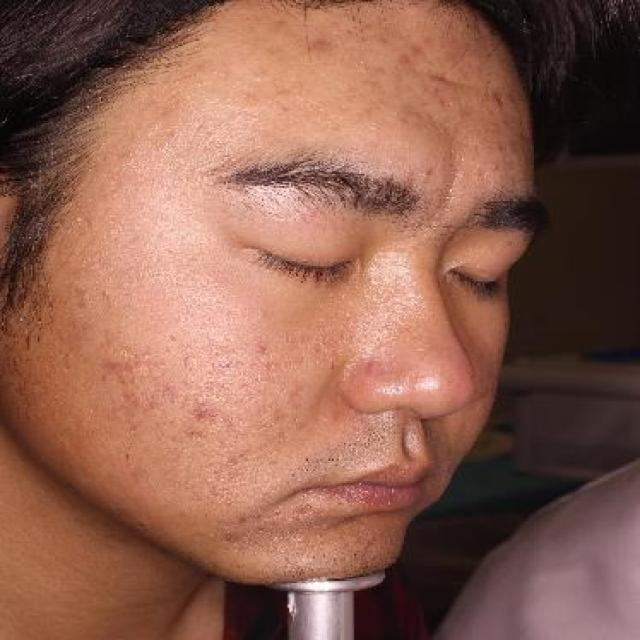darkspot: (99, 357, 136, 386)
nodules: (191, 398, 211, 417)
